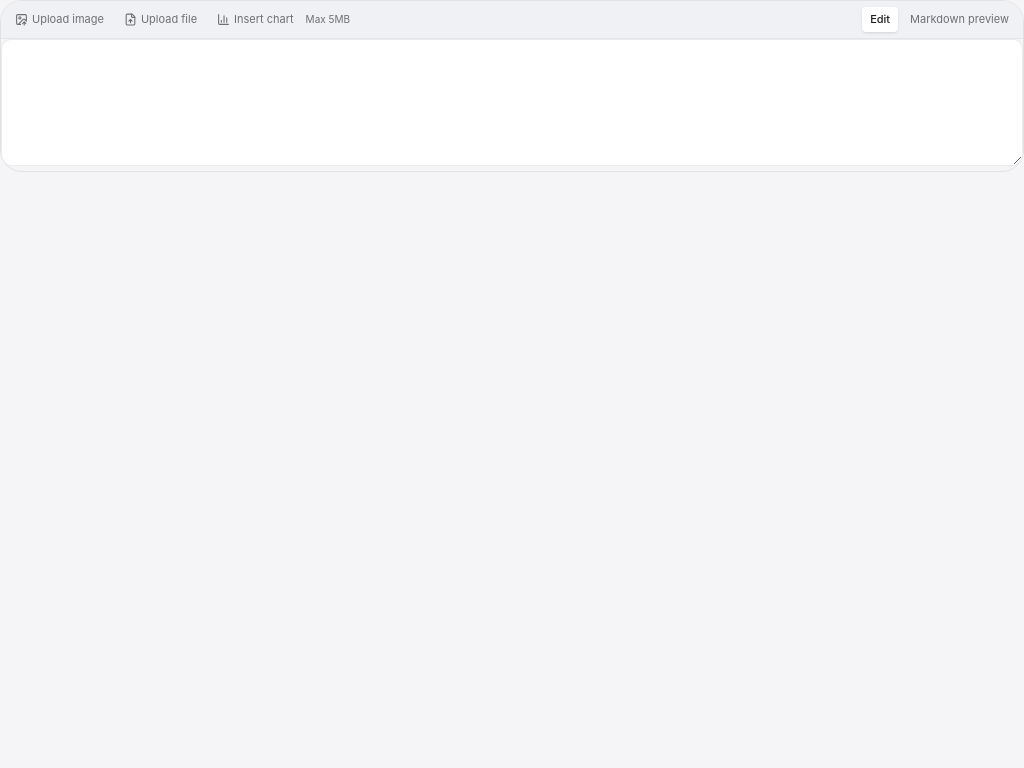
Scenario: localizes the chart dialog controls, data defaults and validation in English
The width and height of the screenshot is (1024, 768).
Click the button "Insert chart".
click(255, 19)  # box [209,7,302,32]
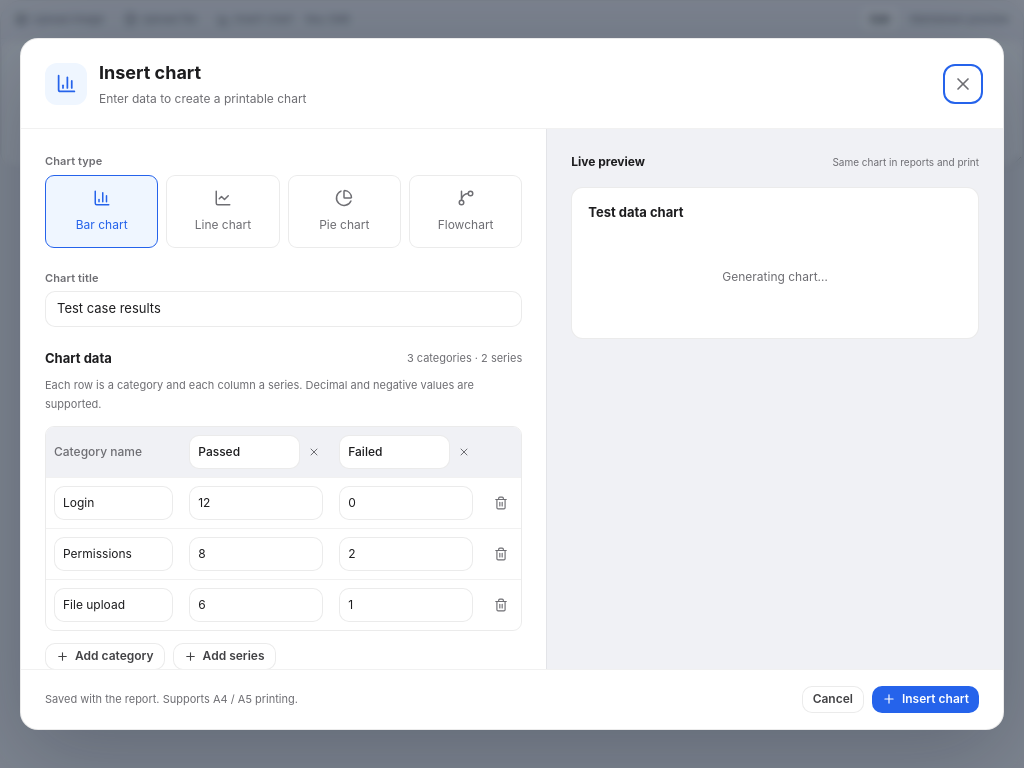
Check: the button "Bar chart" is shown, box [45,175,158,248]
Check: the field labelled "Chart title" holds "Test case results", box [45,291,522,327]
Check: the field named "Category in row 1" holds "Login", box [54,486,173,520]
Clear the number field named "Value in row 1, series 1" at x=256, y=503, box [189,486,323,520]
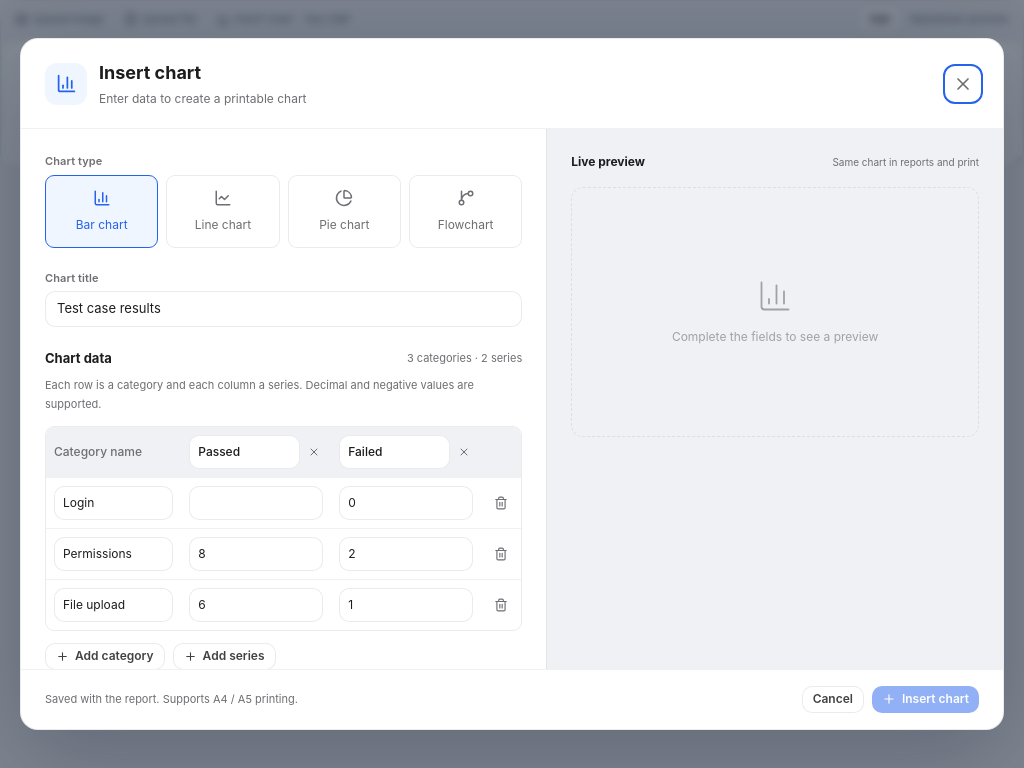
Check: the button "Insert chart" is disabled, box [872,686,979,713]
